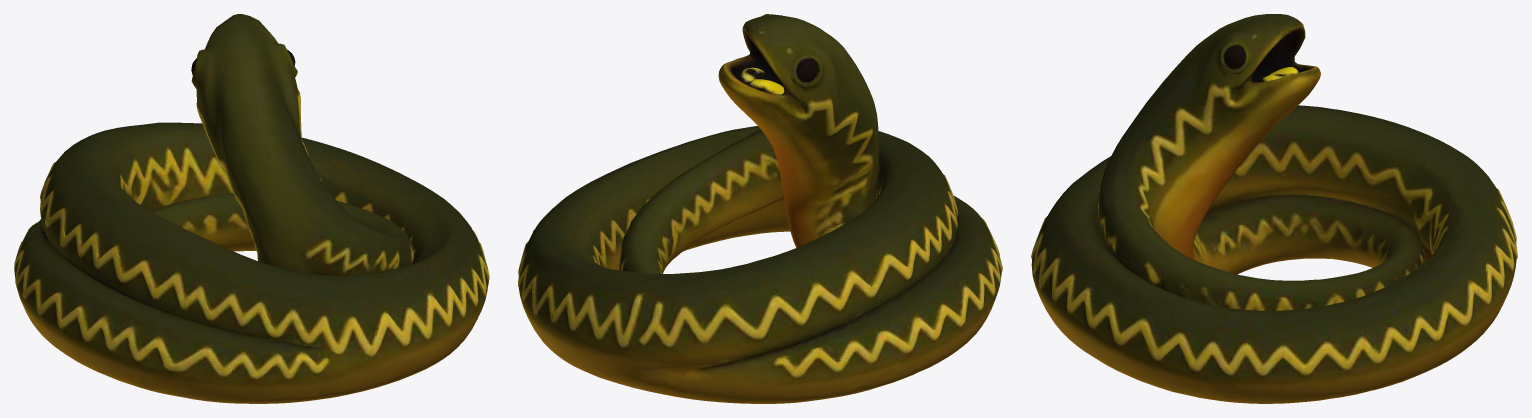
File: electricEel.glb
3 renders of one model, left to right at view 1: azimuth 30°, elevation 25°; view 2: azimuth 150°, elevation 25°; view 3: azimuth 270°, elevation 25°, orthographic. The views are drawn at different scales.
Parts seen in each view (by area): view 1: geometry_0; view 2: geometry_0; view 3: geometry_0.
Boxes of the visible parts, left/top/right/bottom form: geometry_0: left=14, top=14, right=489, bottom=403; geometry_0: left=518, top=14, right=1002, bottom=403; geometry_0: left=1031, top=14, right=1517, bottom=403.
Bounding box in the file's own units: 0.955 × 0.6823 × 0.999.
Materials: 1 (1 with a texture image).
